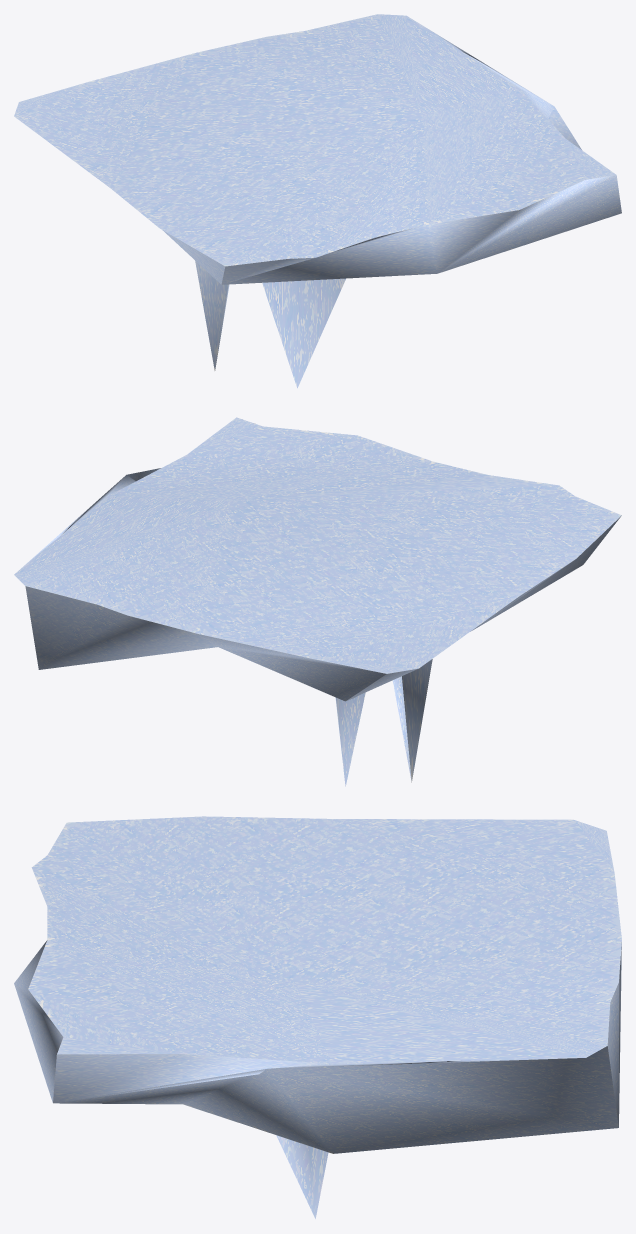
File: iceplatform.obj
3 renders of one model, top to bottom at view 1: azimuth 30°, elevation 25°; view 2: azimuth 150°, elevation 25°; view 3: azimuth 270°, elevation 25°, orthographic. The views are drawn at different scales.
Parts seen in each view (by area): view 1: Box002; view 2: Box002; view 3: Box002.
Boxes of the visible parts, x1,y1,x2,y2 form: Box002: (14, 14, 621, 388); Box002: (14, 417, 621, 786); Box002: (14, 816, 621, 1218).
Bounding box in the file's own units: 39.97 × 22.68 × 40.72.
